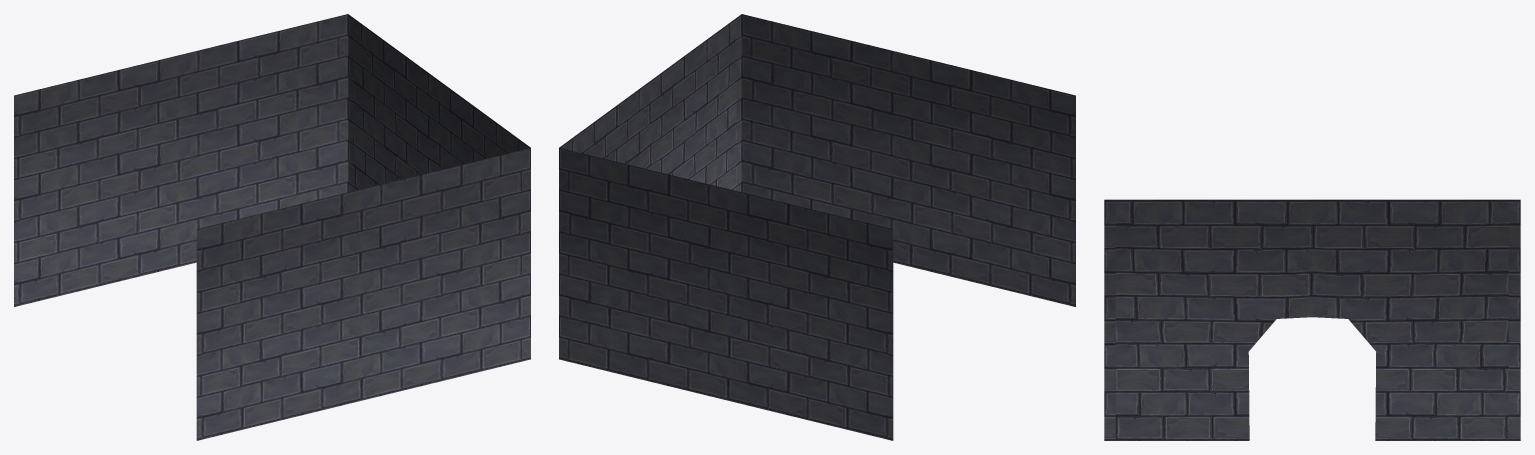
Rendered from dungeon_wall_deadendentry.FBX.
3 views of the same model, side by side, from view 1: azimuth 30°, elevation 25°; view 2: azimuth 150°, elevation 25°; view 3: azimuth 270°, elevation 25° (orthographic). The views are drawn at different scales.
Parts seen in each view (by area): view 1: wall_deadendentry; view 2: wall_deadendentry; view 3: wall_deadendentry.
Boxes of the visible parts, box(x1,y1,x2,y2) form: wall_deadendentry: box(14, 14, 530, 440); wall_deadendentry: box(559, 14, 1075, 440); wall_deadendentry: box(1104, 199, 1520, 440).
Size of the model in its own units: 950 by 575 by 900.
1 material, 1 textured.
